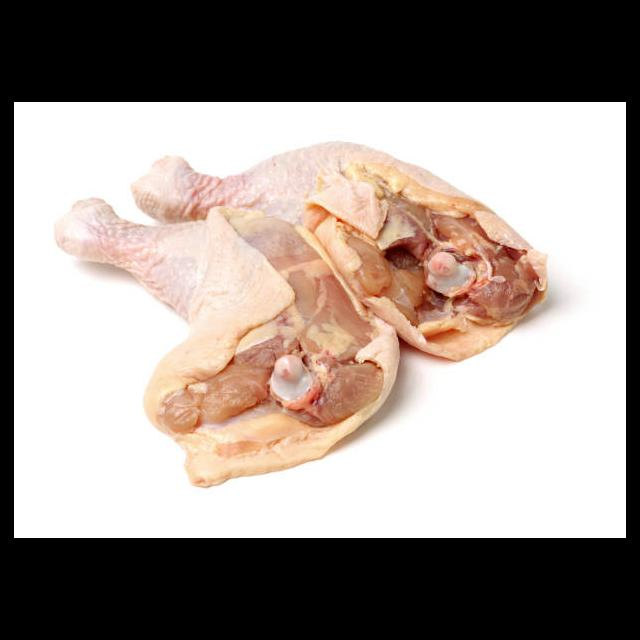chicken: (54, 195, 403, 489), (131, 142, 550, 364)
